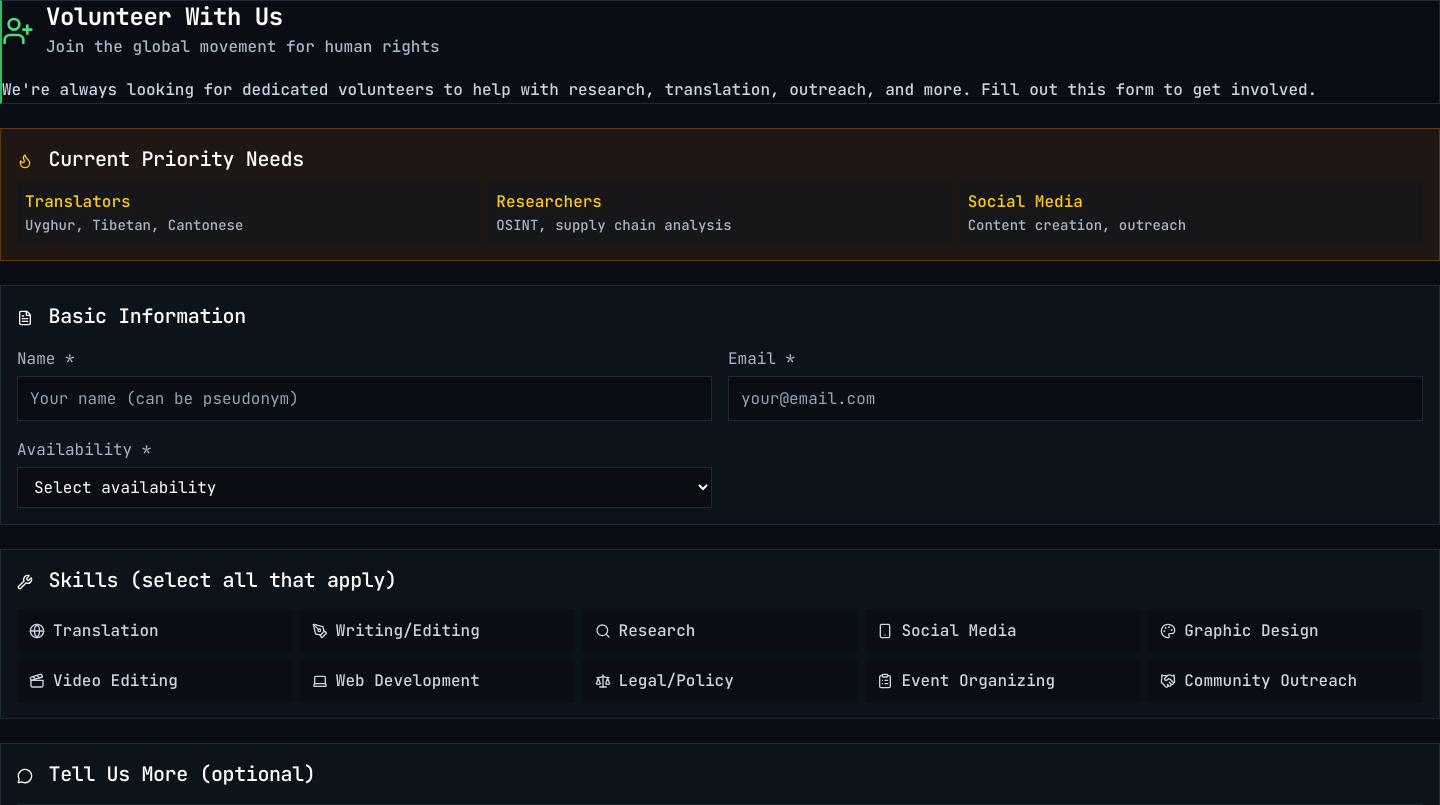
Scenario: VolunteerSignup › shows error message when Supabase submission fails
In the field named "Name *": point(364, 399) [17,376,712,421], type "Jane"
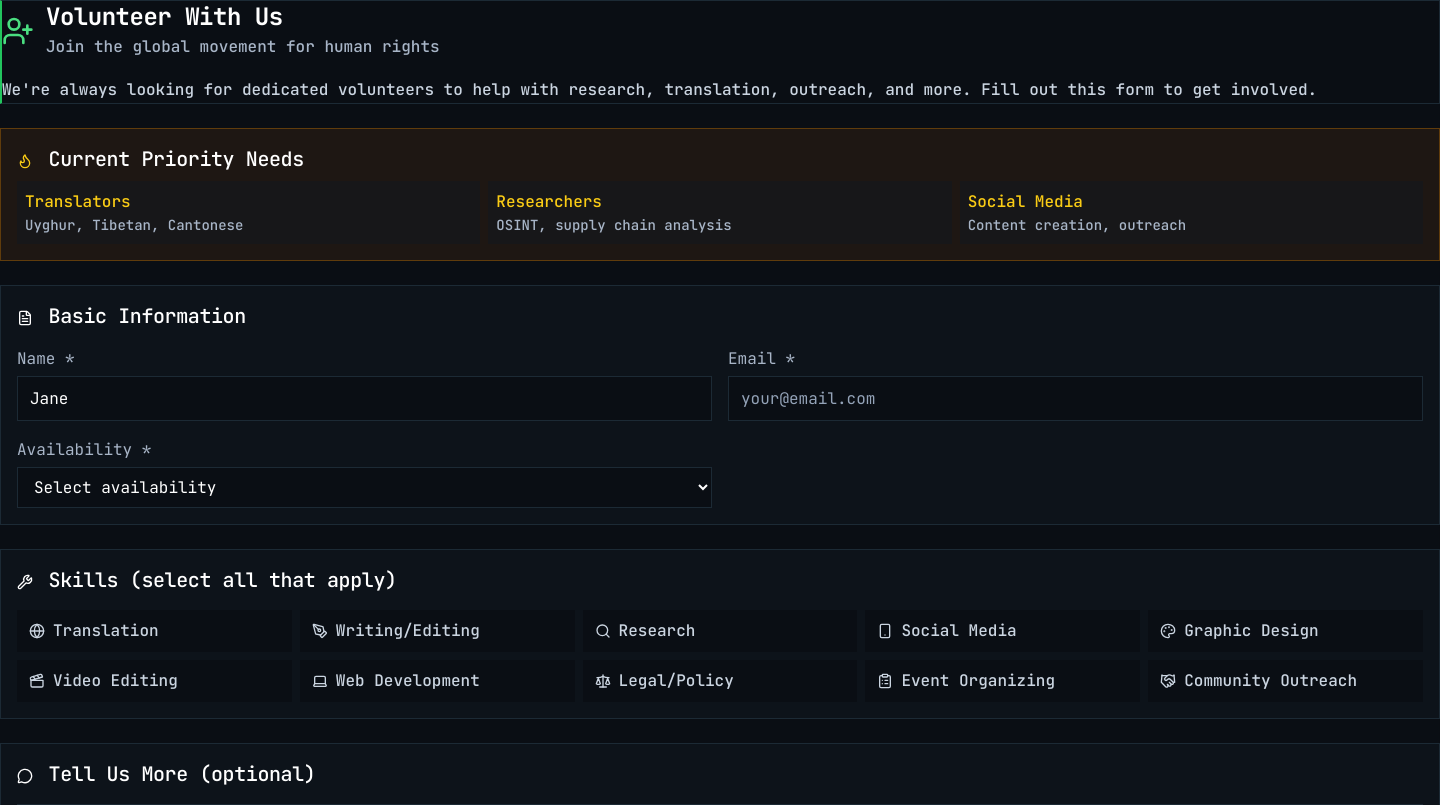
In the field named "Email *": point(1076, 399) [728,376,1423,421], type "jane@test.com"
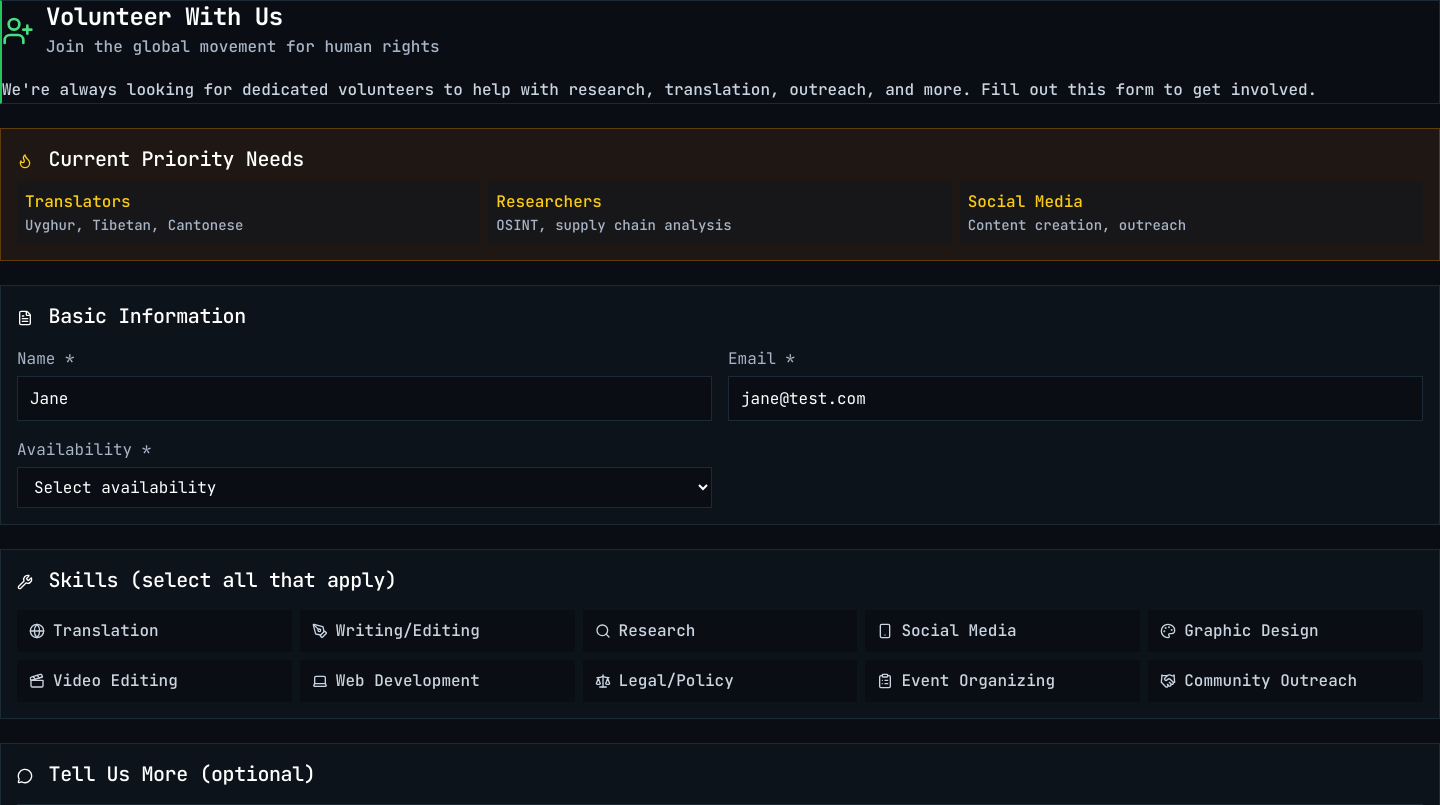
Select "1-5 hours/week" in the dropdown named "Availability *": point(364, 488) [17,467,712,508]
(page scrolled)
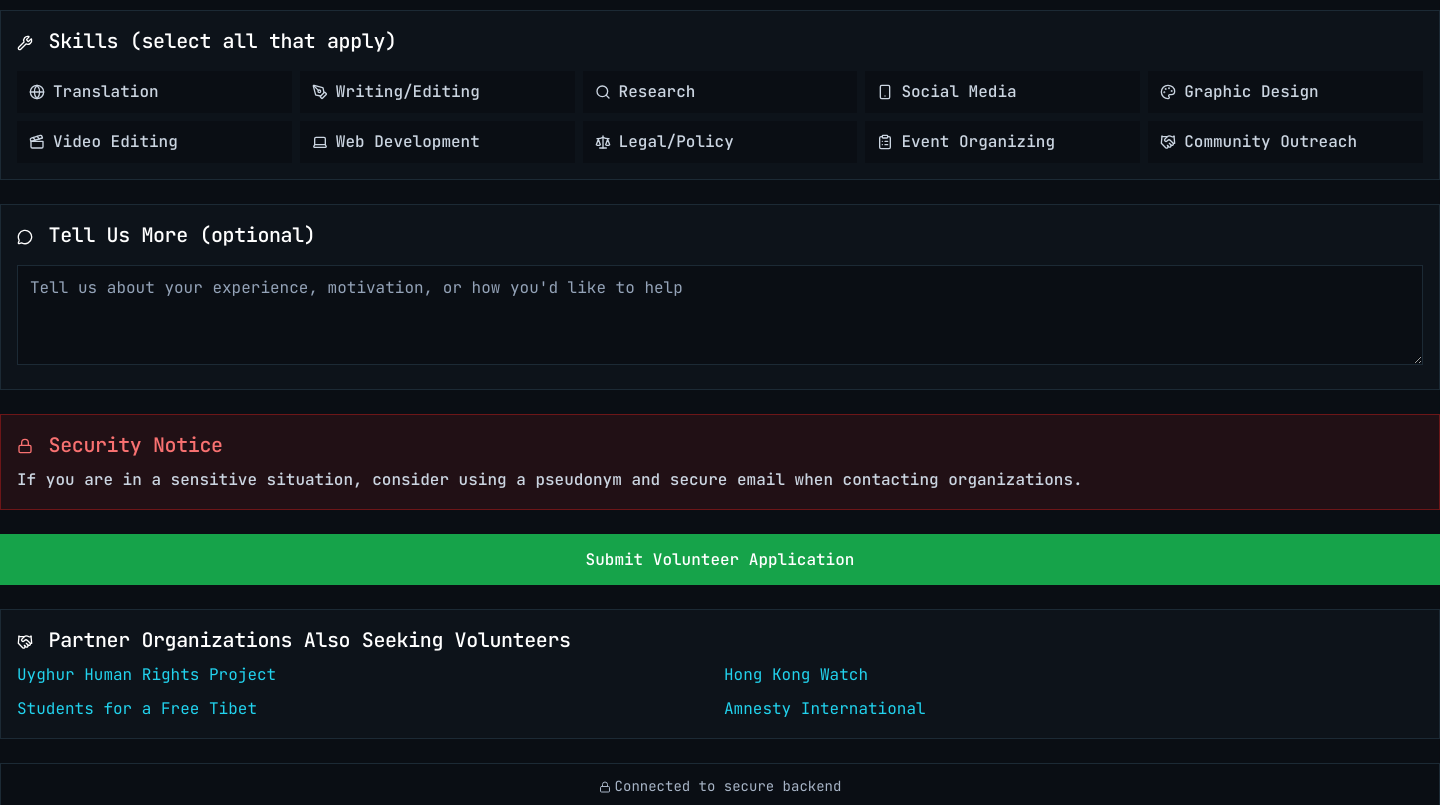
Click the button "Submit Volunteer Application": point(720, 560) [0,534,1439,585]
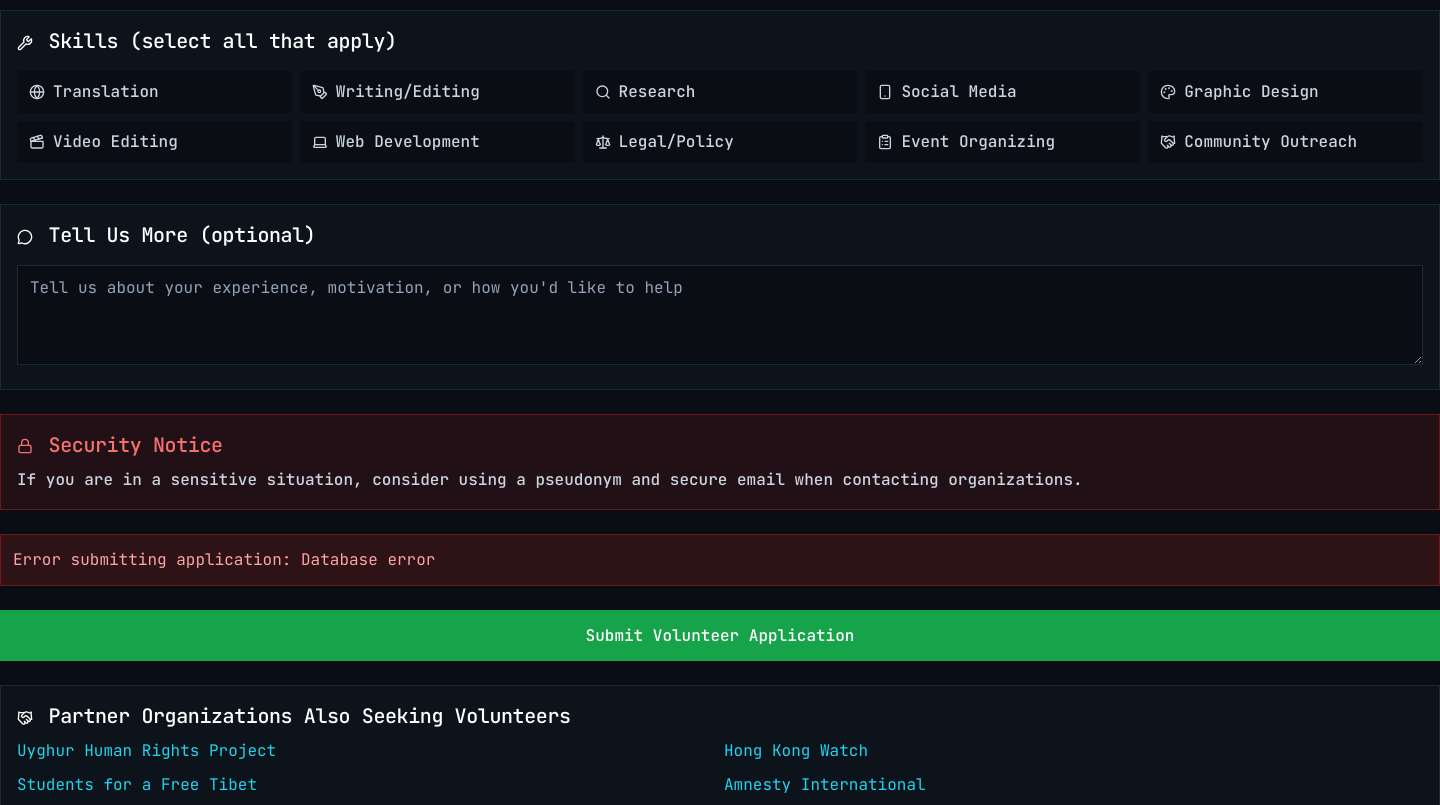
Result: the text "Error submitting application: Database error" is shown at [0,534,1439,586]
